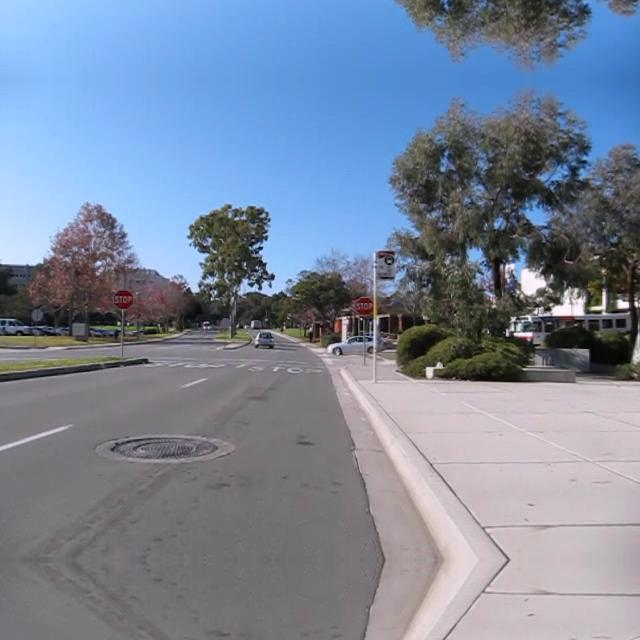stop: (112, 288, 134, 310), (353, 296, 375, 316)
